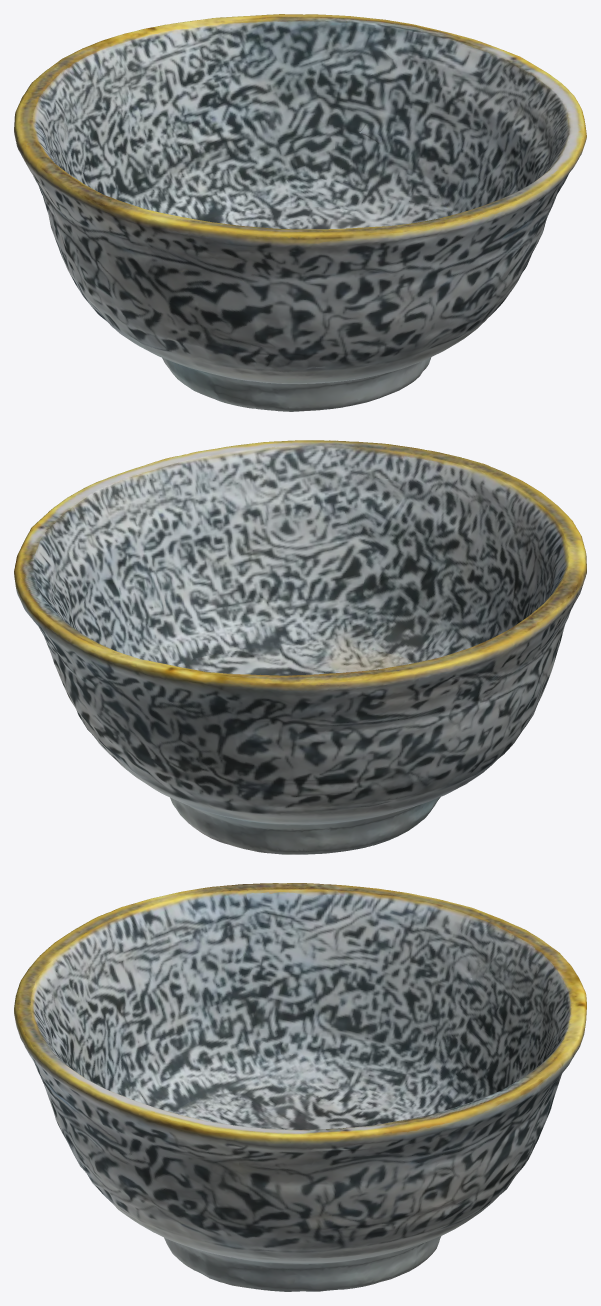
Rendered from Now_Designs_Bowl_Akita_Black.glb.
3 views of the same model, one above another, from view 1: azimuth 30°, elevation 25°; view 2: azimuth 150°, elevation 25°; view 3: azimuth 270°, elevation 25° (orthographic).
Visible parts, largest first — view 1: geometry_0; view 2: geometry_0; view 3: geometry_0.
Part boxes in pixels (x1,y1,x2,y2): geometry_0: (14,14,586,411); geometry_0: (14,440,586,854); geometry_0: (14,883,586,1291).
Size of the model in its own units: 0.9884 by 0.4654 by 0.983.
Materials: 1 (1 with a texture image).
